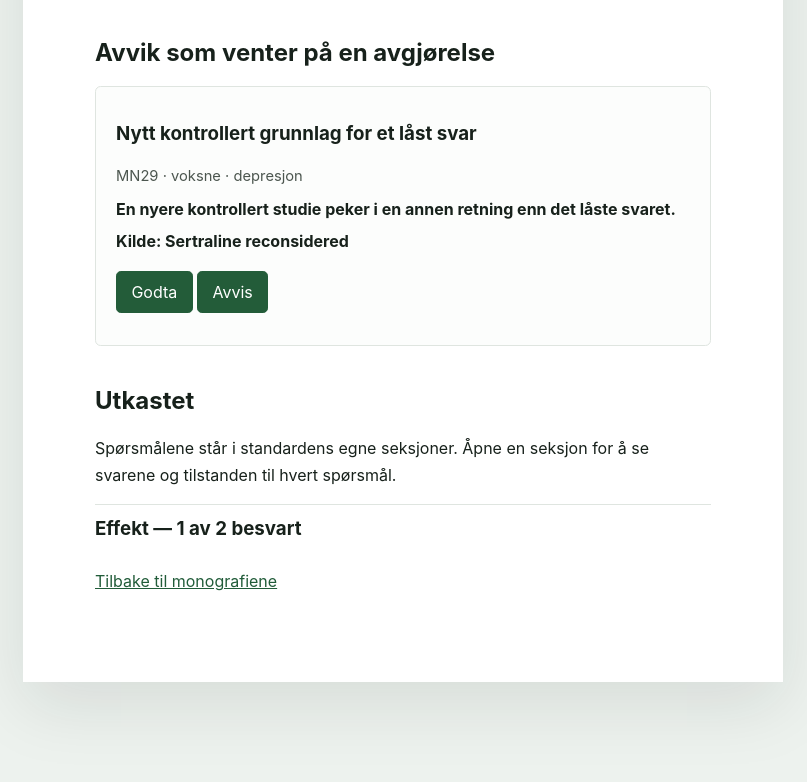
it: spørsmålene i utkastet › holder spørsmålene lukket til seksjonen åpnes
This screenshot has width=807, height=782.
(page scrolled)
Check: the text "Hvor godt virker midlet ved depresjon hos voksne?" is not shown
Click the button "Effekt — 1 av 2 besvart": (122, 529) [95,505,711,552]
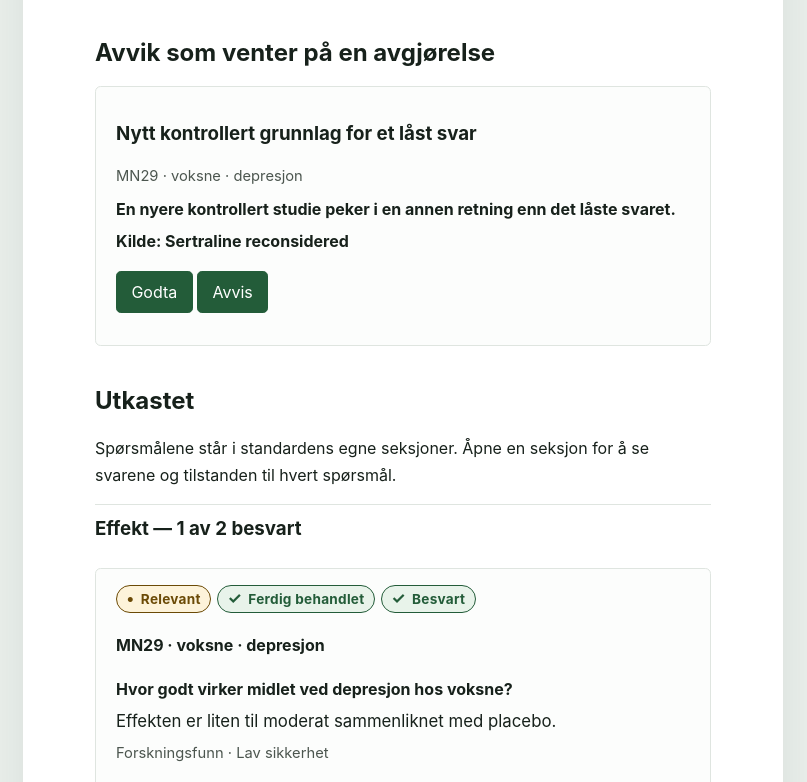
Check: the text "Hvor godt virker midlet ved depresjon hos voksne?" is shown, box [116,679,513,699]
